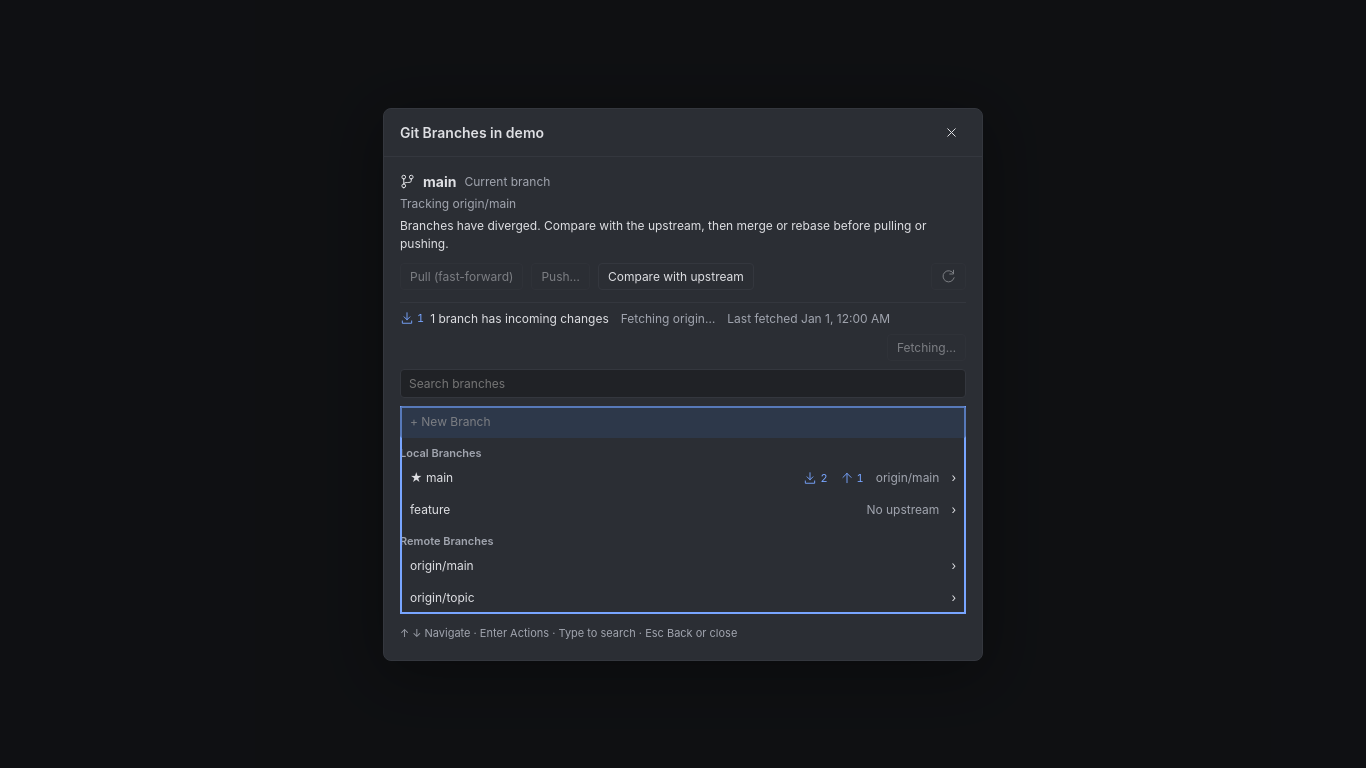
keeps branch browsing available and blocks mutations during a background fetch
The width and height of the screenshot is (1366, 768).
Expected: the heading "Local Branches" is shown, 400,446 -> 482,460
Click the text "feature".
click(430, 510)  # box 410,502 -> 450,517
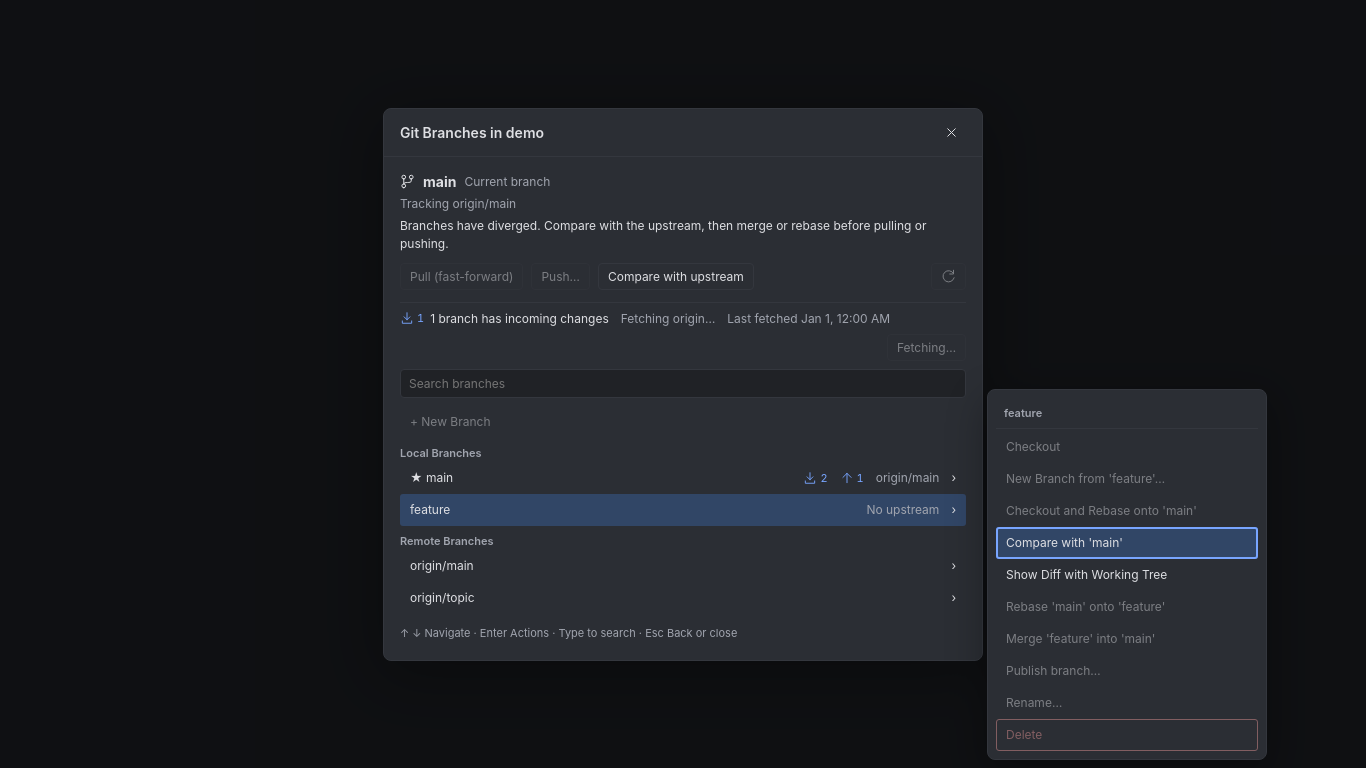
Expected: the button "Fetching…" is disabled, 887,334 -> 966,360
Expected: the menu item "Checkout" is disabled, 996,431 -> 1258,463
Expected: the menu item "Compare with 'main'" is enabled, 996,527 -> 1258,559
